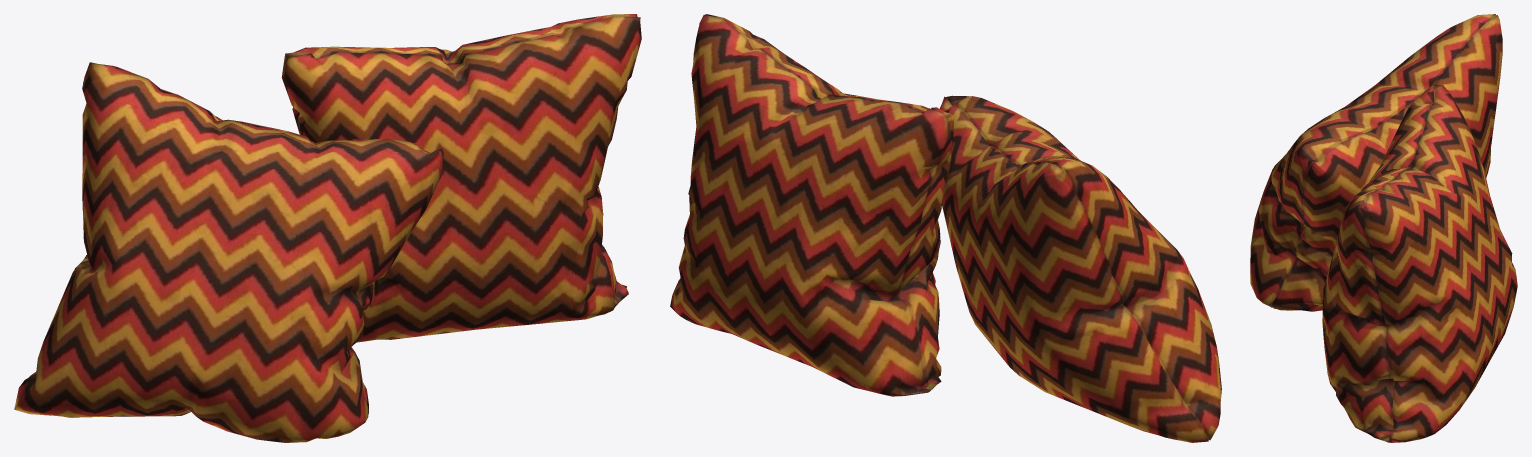
Rendered from throw_pillows_01_tv.gltf.
3 views of the same model, side by side, from view 1: azimuth 30°, elevation 25°; view 2: azimuth 150°, elevation 25°; view 3: azimuth 270°, elevation 25° (orthographic). The views are drawn at different scales.
Visible parts, largest first — view 1: throw_pillows_01_pillow01, throw_pillows_01_pillow02; view 2: throw_pillows_01_pillow02, throw_pillows_01_pillow01; view 3: throw_pillows_01_pillow02, throw_pillows_01_pillow01.
Part boxes in pixels (bbox=[...]): throw_pillows_01_pillow01: bbox=[14, 62, 443, 442]; throw_pillows_01_pillow02: bbox=[281, 14, 641, 342]; throw_pillows_01_pillow02: bbox=[670, 14, 953, 396]; throw_pillows_01_pillow01: bbox=[939, 95, 1221, 442]; throw_pillows_01_pillow02: bbox=[1322, 84, 1517, 442]; throw_pillows_01_pillow01: bbox=[1250, 14, 1502, 311].
Bounding box in the file's own units: 0.9401 × 0.4499 × 0.4504.
1 material, 1 textured.
